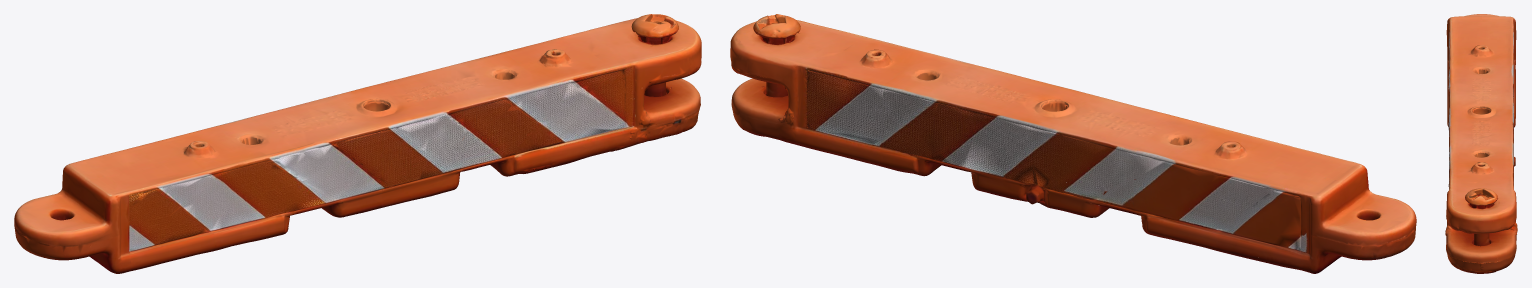
File: tss890.glb
3 renders of one model, left to right at view 1: azimuth 30°, elevation 25°; view 2: azimuth 150°, elevation 25°; view 3: azimuth 270°, elevation 25°, orthographic. The views are drawn at different scales.
Parts seen in each view (by area): view 1: tripo_node_f6a503c2-dffe-48c2-9c40-f355cfcbe766; view 2: tripo_node_f6a503c2-dffe-48c2-9c40-f355cfcbe766; view 3: tripo_node_f6a503c2-dffe-48c2-9c40-f355cfcbe766.
Boxes of the visible parts, x1,y1,x2,y2 form: tripo_node_f6a503c2-dffe-48c2-9c40-f355cfcbe766: (14,14,701,273); tripo_node_f6a503c2-dffe-48c2-9c40-f355cfcbe766: (730,14,1416,273); tripo_node_f6a503c2-dffe-48c2-9c40-f355cfcbe766: (1445,14,1517,273).
Size of the model in its own units: 0.9799 by 0.1455 by 0.1309.
Materials: 1 (1 with a texture image).
